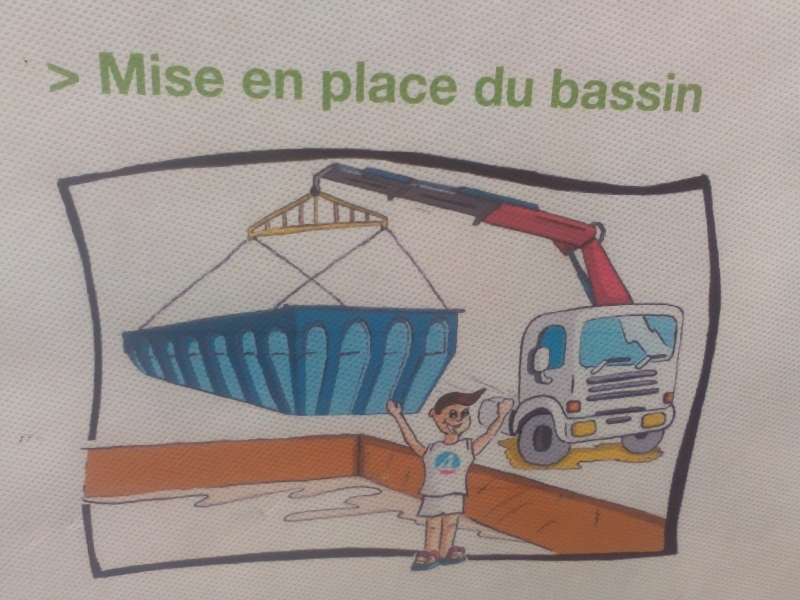text: (337, 60, 352, 112), (353, 60, 368, 112), (369, 60, 384, 112), (385, 60, 400, 112), (401, 60, 416, 112), (417, 60, 432, 112), (433, 60, 448, 112), (97, 50, 112, 99), (113, 50, 128, 99), (129, 50, 144, 99), (145, 50, 160, 99), (161, 50, 176, 99), (177, 50, 192, 99), (193, 50, 208, 99), (209, 50, 224, 99), (322, 60, 336, 112), (561, 68, 576, 114), (577, 68, 592, 114), (593, 68, 608, 114), (609, 68, 624, 114), (625, 68, 640, 114), (641, 68, 656, 114), (657, 68, 672, 114), (673, 68, 688, 114), (689, 68, 704, 114), (481, 66, 496, 108), (497, 66, 512, 108), (513, 66, 528, 108), (257, 68, 272, 101), (273, 68, 288, 101), (449, 60, 458, 112), (289, 68, 303, 101), (243, 68, 256, 101), (554, 68, 560, 114), (475, 66, 480, 108), (529, 66, 534, 108), (225, 50, 228, 99), (705, 68, 706, 114)
